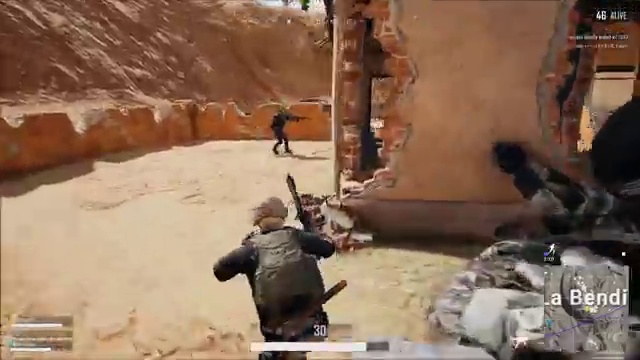Player: (193, 187, 370, 324), (258, 108, 311, 162)
